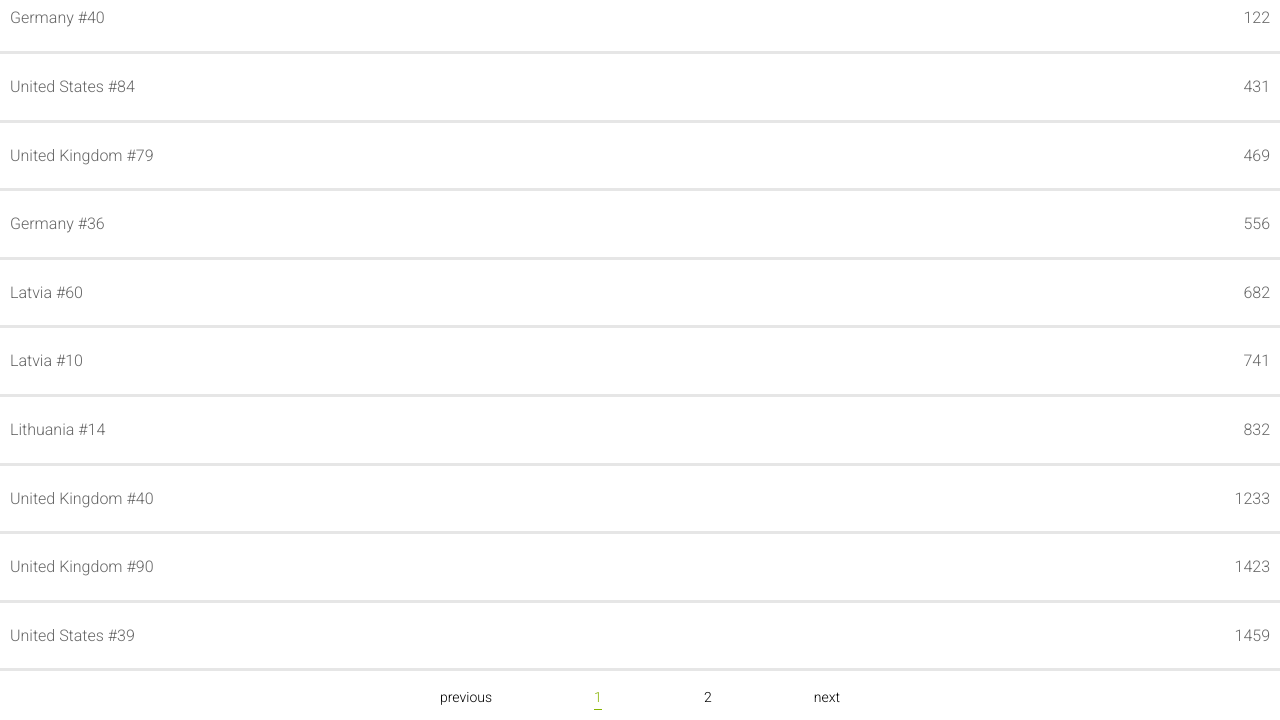
Test: ServersList › should handle pagination
(page scrolled)
Expected: the text "Germany #40" is shown, [10, 5, 105, 31]
Expected: the text "122" is shown, [1243, 5, 1270, 31]
Click the button with aria-label "Next page" at (827, 697), box [814, 689, 840, 705]
(page scrolled)
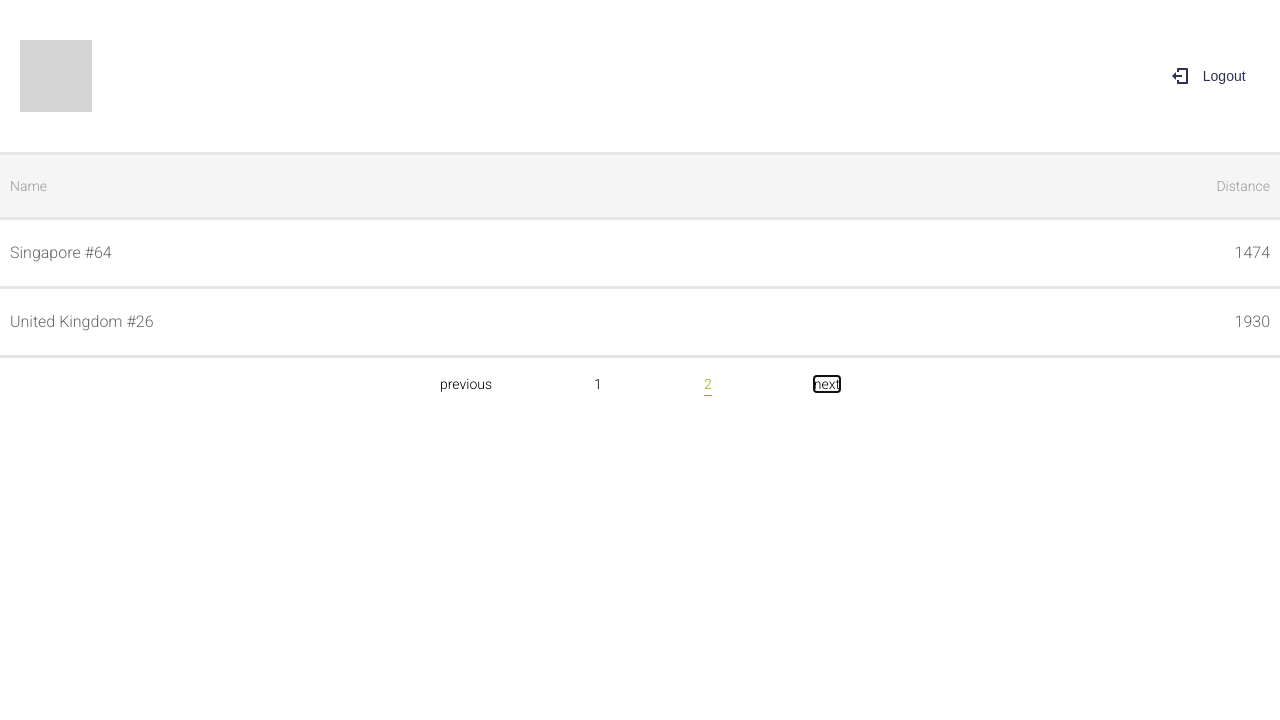
Now the text "Singapore #64" is shown, box [10, 240, 112, 266]
Now the text "1474" is shown, box [1234, 240, 1270, 266]
Now the text "United Kingdom #26" is shown, box [10, 309, 154, 335]
